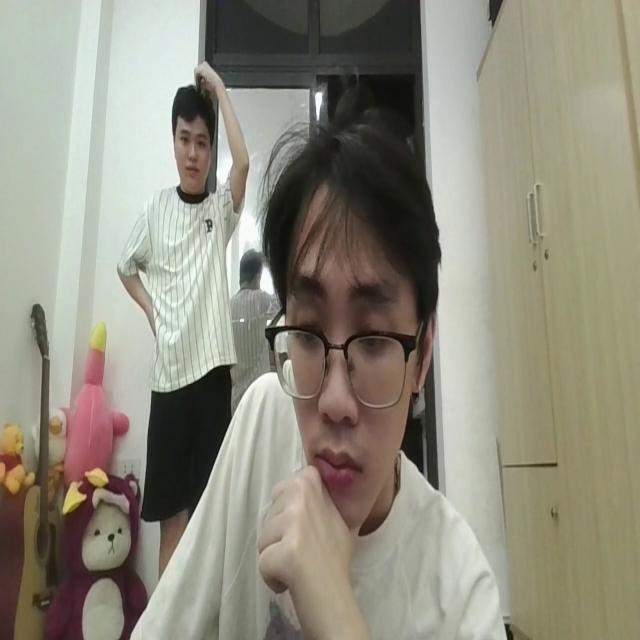extra_person: (110, 64, 248, 443)
student: (133, 121, 506, 640)
